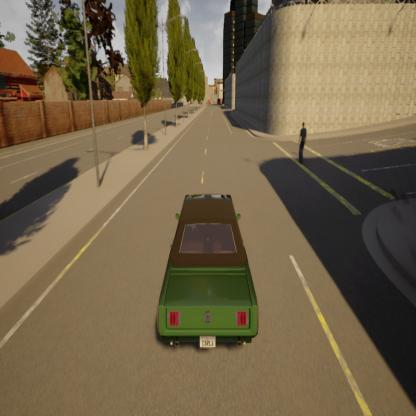Cars: (146, 180, 266, 362)
Pedestrian: (292, 118, 308, 168)
